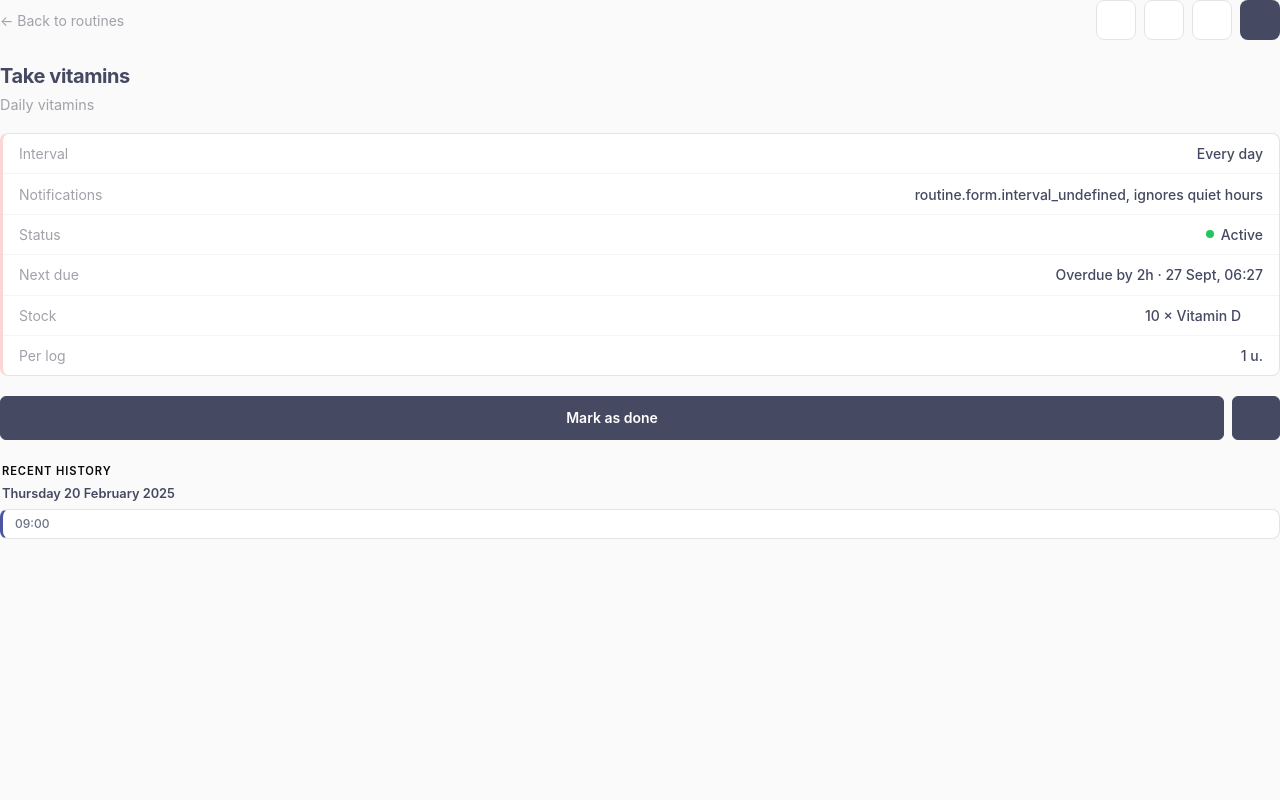
Test: RoutineDetailPage › shows lot selection modal when routine requires_lot_selection
Click the button "Mark as done" at (612, 418), box [0, 396, 1224, 440]
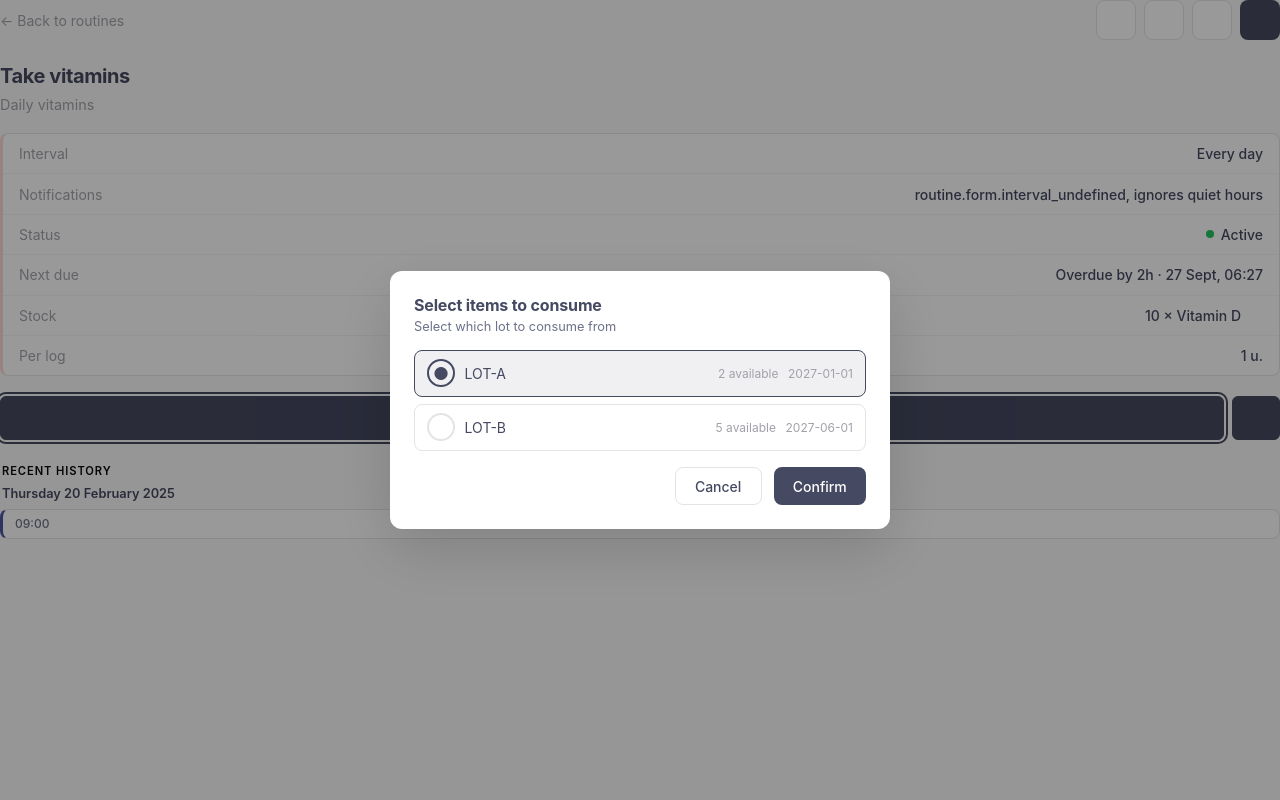
Check: the heading "Select items to consume" is shown, box [414, 295, 602, 315]
